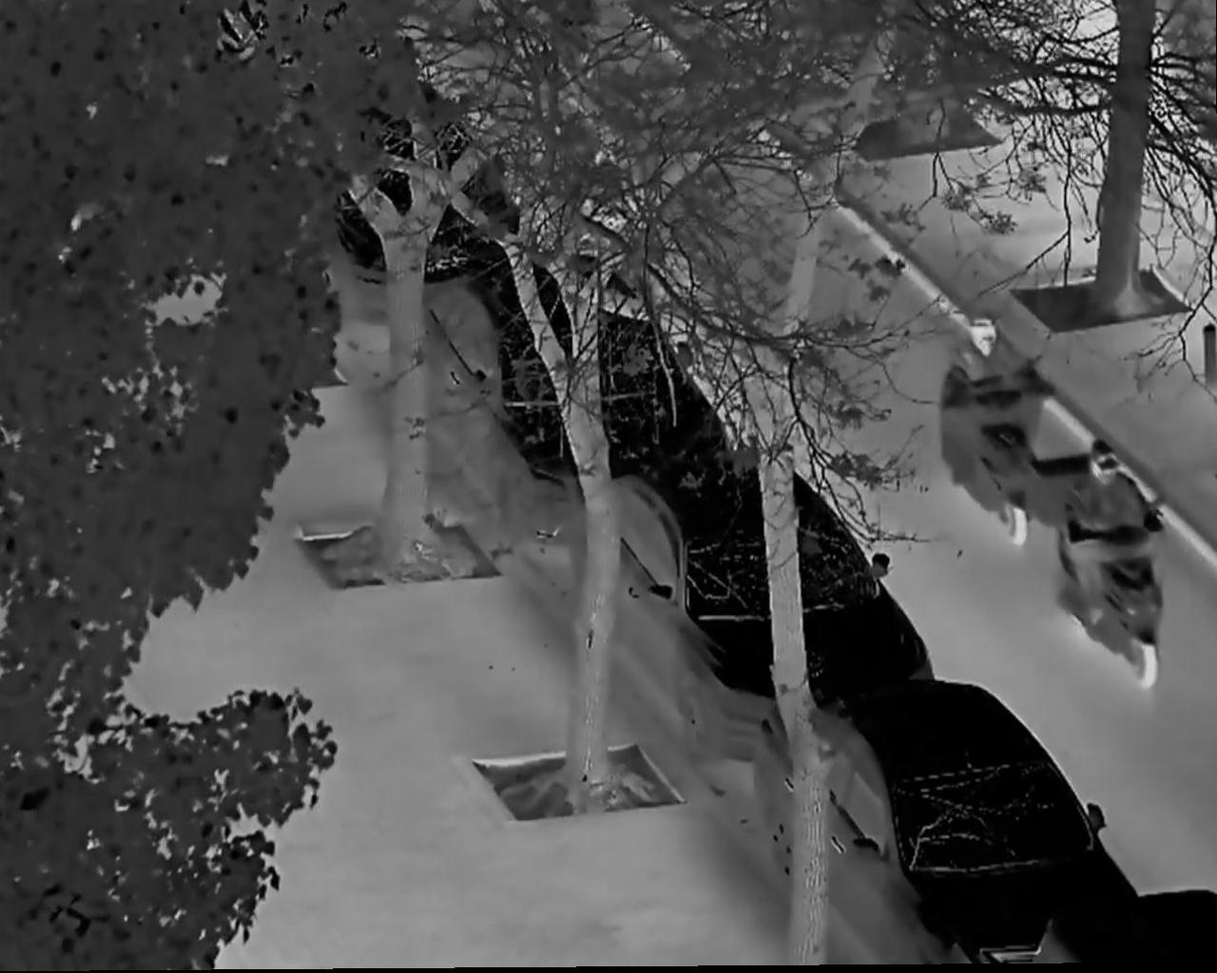person: (940, 317, 1035, 480), (1076, 444, 1169, 605)
